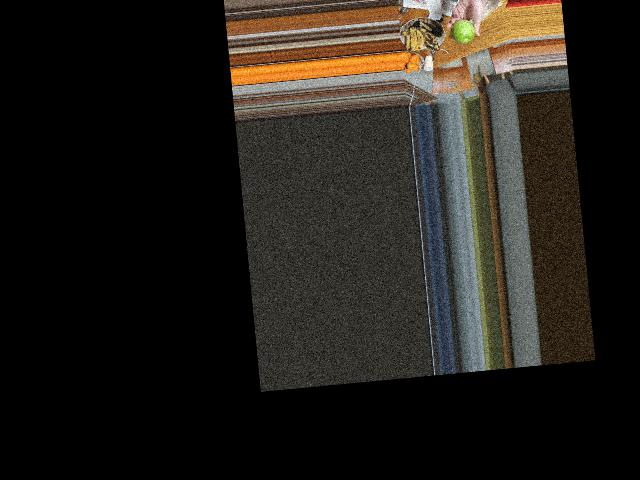apple: (450, 17, 475, 43)
